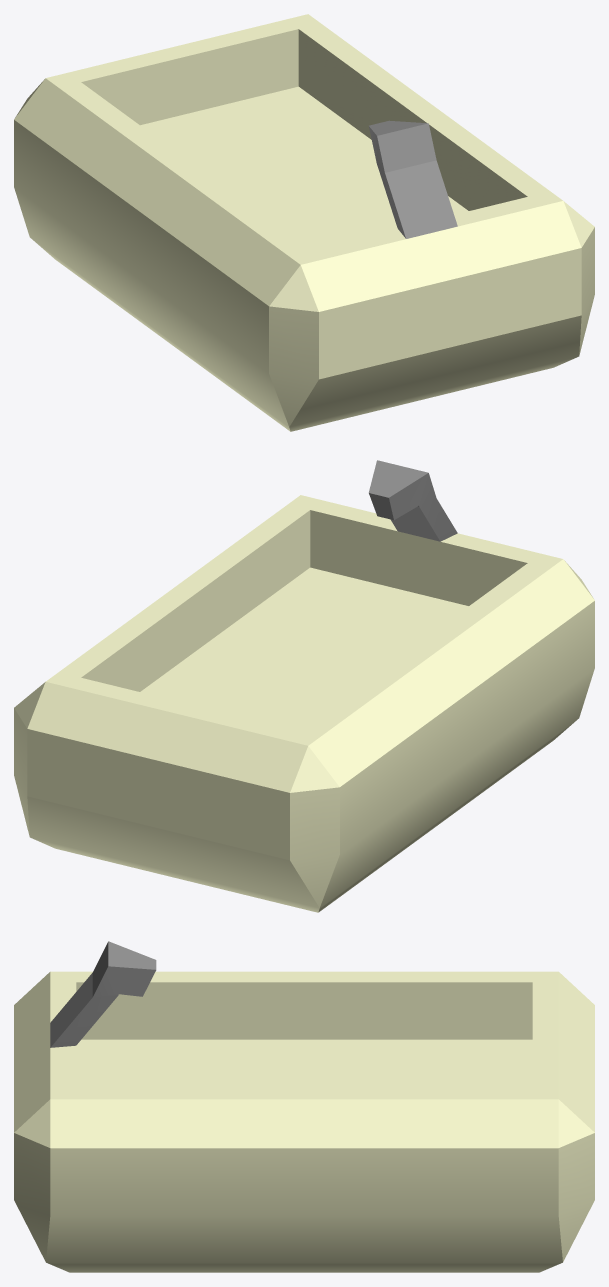
The model's file is ducha.fbx.
3 views of the same model, one above another, from view 1: azimuth 30°, elevation 25°; view 2: azimuth 150°, elevation 25°; view 3: azimuth 270°, elevation 25° (orthographic).
Parts seen in each view (by area): view 1: shower; view 2: shower; view 3: shower.
Boxes of the visible parts, x1,y1,x2,y2 form: shower: (14,14,594,431); shower: (14,460,594,912); shower: (14,941,594,1272).
Size of the model in its own units: 2.74 by 4.25 by 2.06.
